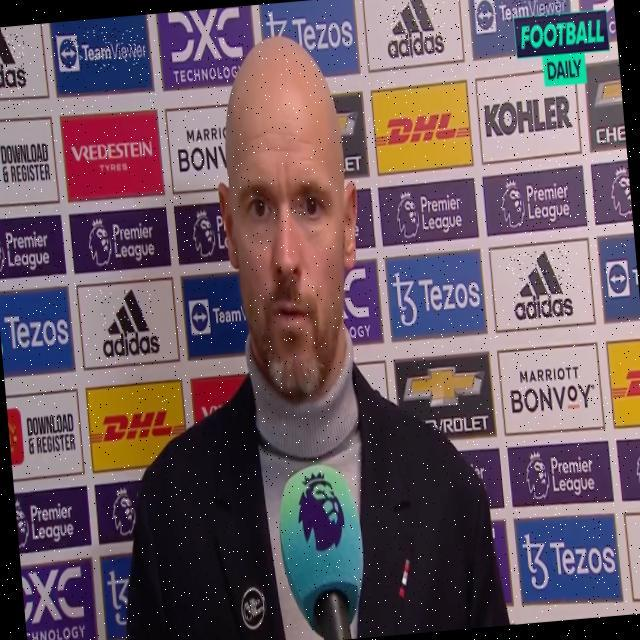Adidas: (508, 248, 575, 322), (98, 286, 162, 358), (382, 0, 444, 58), (0, 26, 27, 92)
Chevrolet: (400, 358, 491, 437)
Kohler: (482, 92, 573, 140)
TeamViewer: (55, 26, 148, 73), (473, 0, 568, 34)
